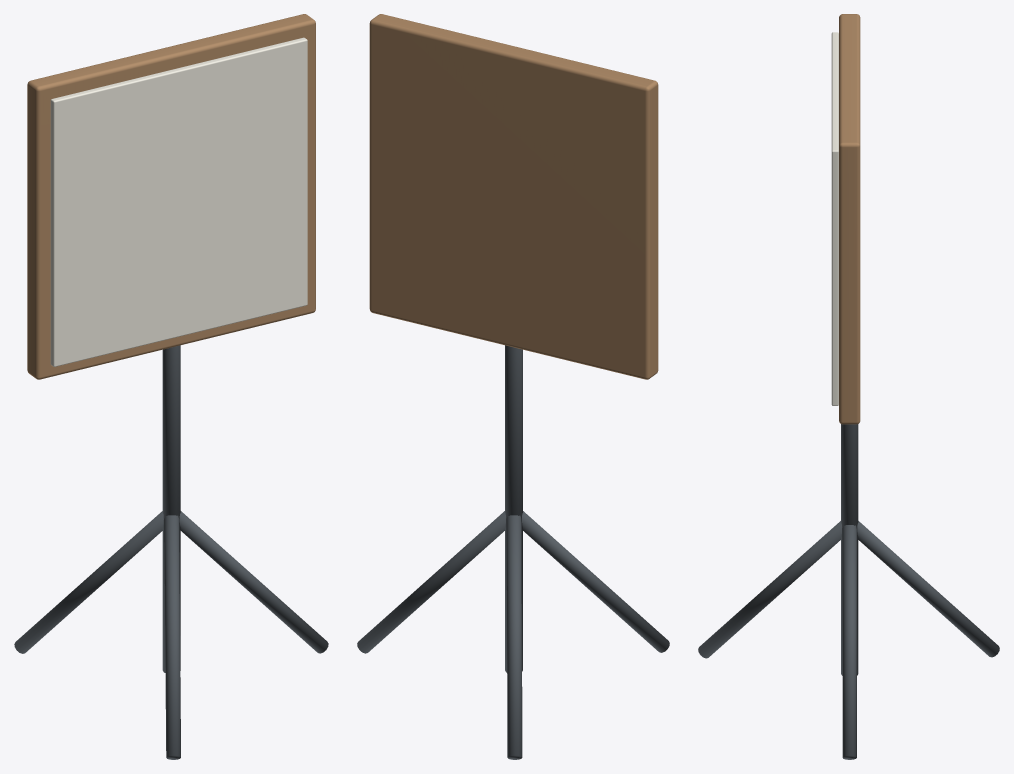
File: atelier-painting-canvas.glb
3 renders of one model, left to right at view 1: azimuth 30°, elevation 25°; view 2: azimuth 150°, elevation 25°; view 3: azimuth 270°, elevation 25°, orthographic. The views are drawn at different scales.
Visible parts, largest first — view 1: ceramic.152, legs.230, metal.198; view 2: legs.230, metal.198; view 3: metal.198, legs.230, ceramic.152.
Part boxes in pixels (x1=…): ceramic.152: x1=50, y1=37, x2=307, y2=366; legs.230: x1=27, y1=14, x2=315, y2=379; metal.198: x1=14, y1=345, x2=328, y2=759; legs.230: x1=369, y1=14, x2=658, y2=379; metal.198: x1=357, y1=345, x2=669, y2=759; metal.198: x1=698, y1=424, x2=999, y2=759; legs.230: x1=839, y1=14, x2=860, y2=424; ceramic.152: x1=831, y1=32, x2=838, y2=405.
Bounding box in the file's own units: 0.686 × 1.42 × 0.6312.
